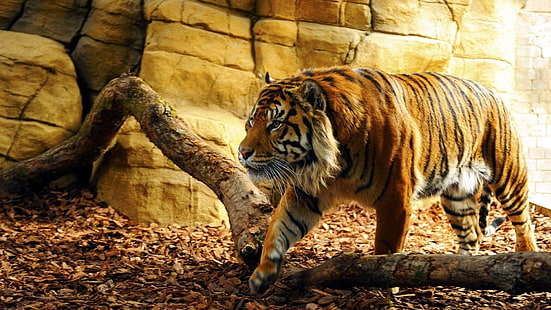Tigrew: (223, 53, 548, 268)
